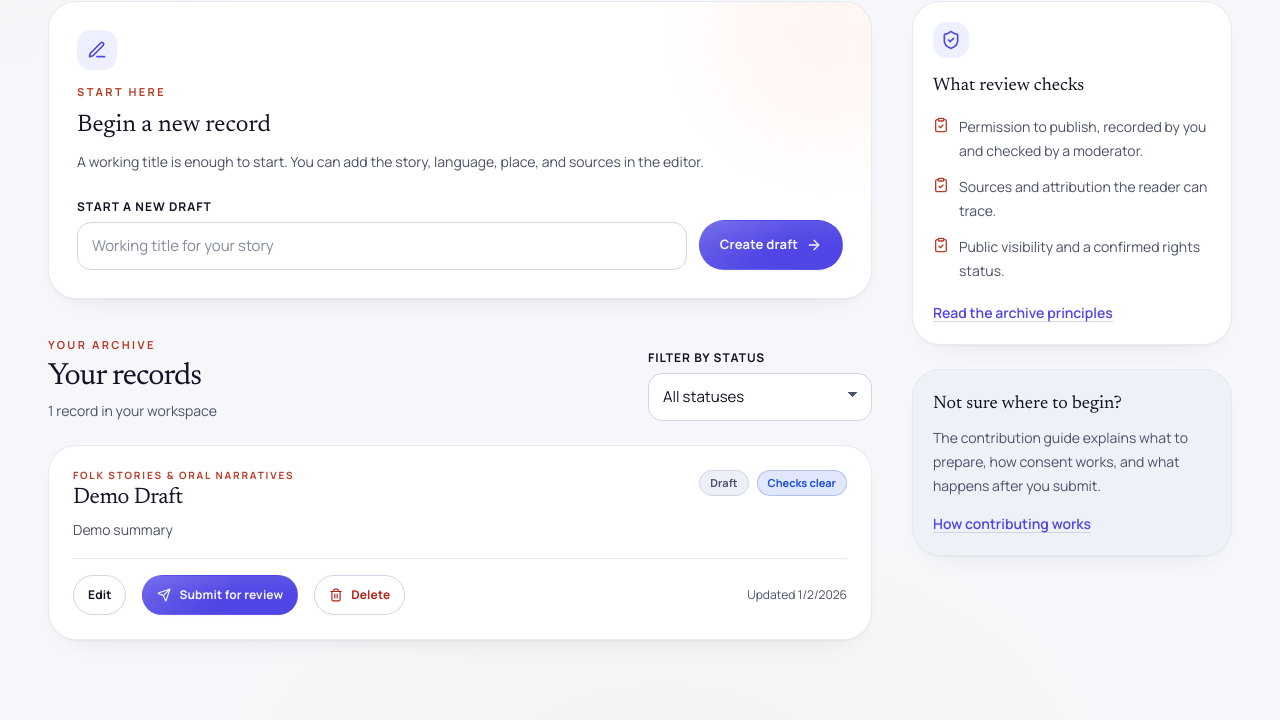
Scenario: DashboardPage › surfaces missing submission requirements from a 422
(page scrolled)
Check: the link "Demo Draft" is shown, box [73,487,183,509]
Click the button "Submit for review": [220, 595] box [142,575,298,615]
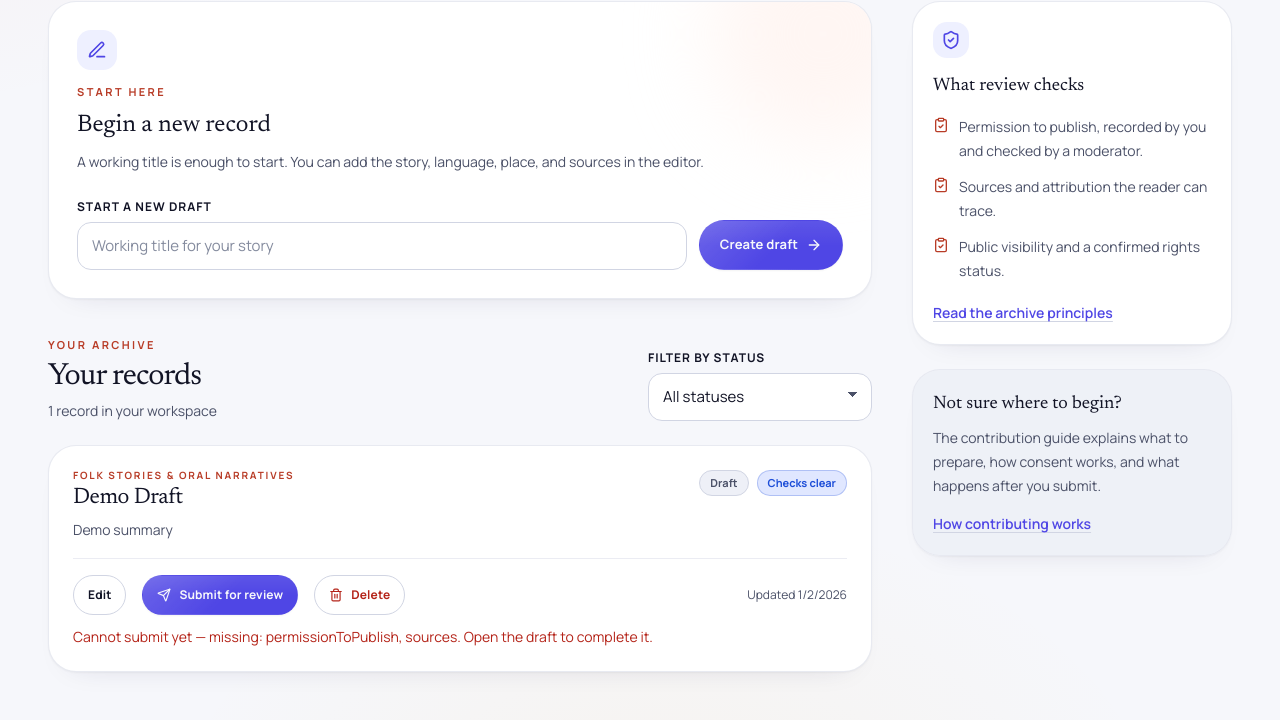
Check: the message shows "permissionToPublish", box [73,627,653,646]
Check: the message shows "sources", box [73,627,653,646]
